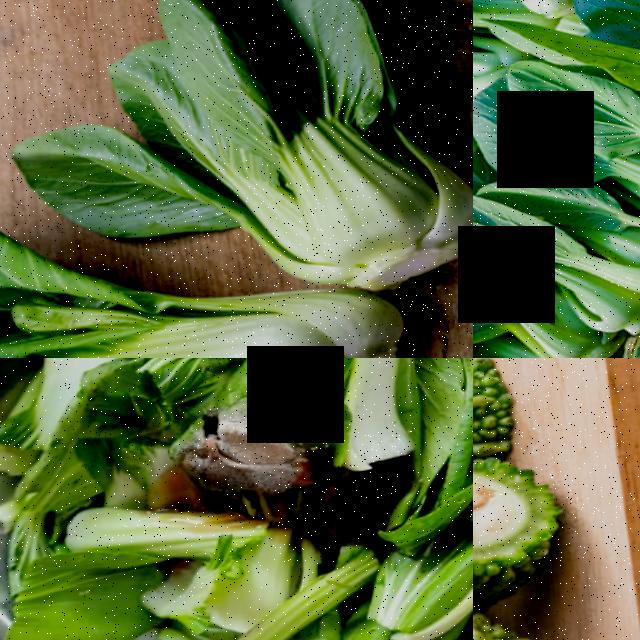bitter gourd: (473, 358, 581, 500), (473, 466, 590, 596)
bok choy: (44, 0, 473, 285), (0, 261, 391, 358), (473, 201, 640, 293), (529, 69, 640, 176), (473, 303, 602, 358)
